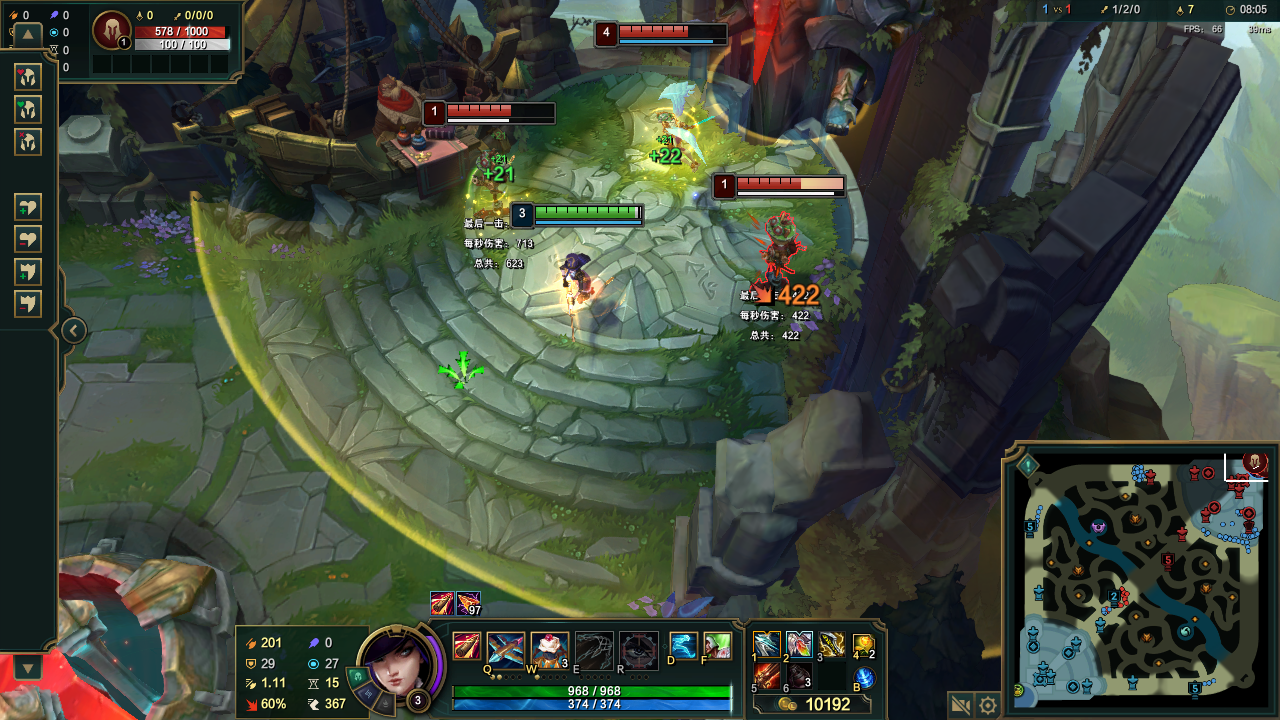DFYX: (732, 174, 853, 191), (442, 103, 555, 117), (617, 23, 728, 37)
